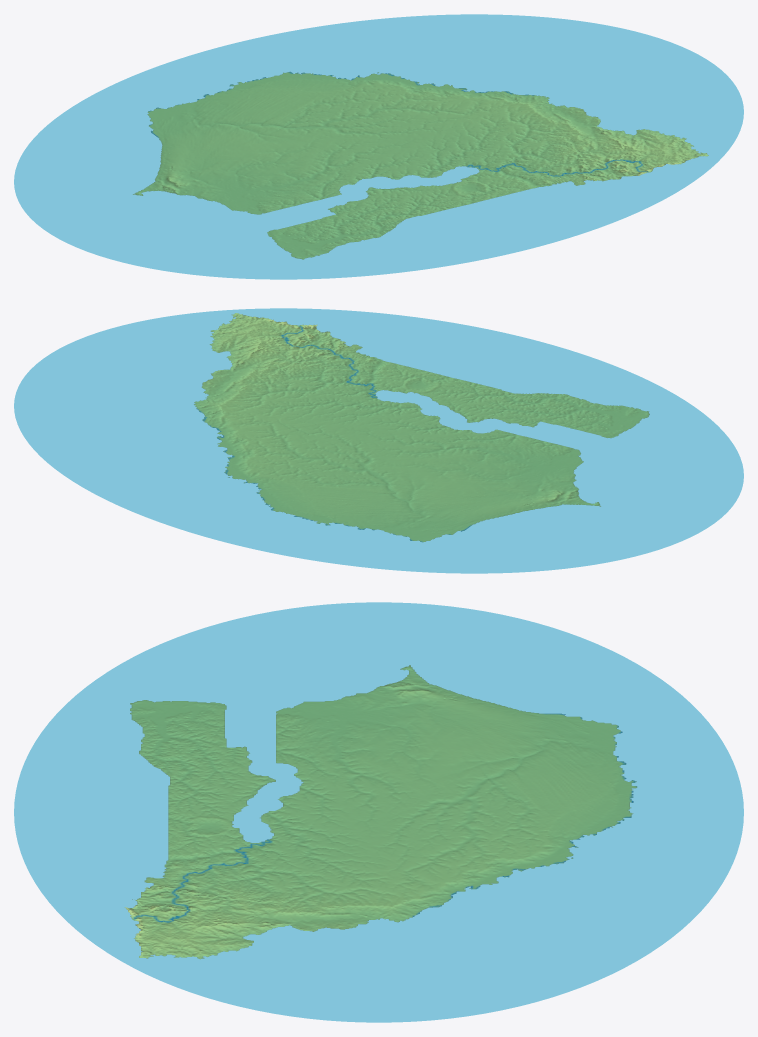
Rendered from SEN-terrain.glb.
The picture shows the model from 3 angles, top to bottom: view 1: azimuth 30°, elevation 25°; view 2: azimuth 150°, elevation 25°; view 3: azimuth 270°, elevation 25°; orthographic projection. The views are drawn at different scales.
Parts seen in each view (by area): view 1: Relevo com hidrografia; view 2: Relevo com hidrografia; view 3: Relevo com hidrografia.
Boxes of the visible parts, left/top/right/bottom form: Relevo com hidrografia: left=14, top=14, right=743, bottom=279; Relevo com hidrografia: left=14, top=308, right=743, bottom=573; Relevo com hidrografia: left=14, top=602, right=743, bottom=1022.
Bounding box in the file's own units: 2.29 × 0.017 × 1.68.
2 materials, 1 textured.
